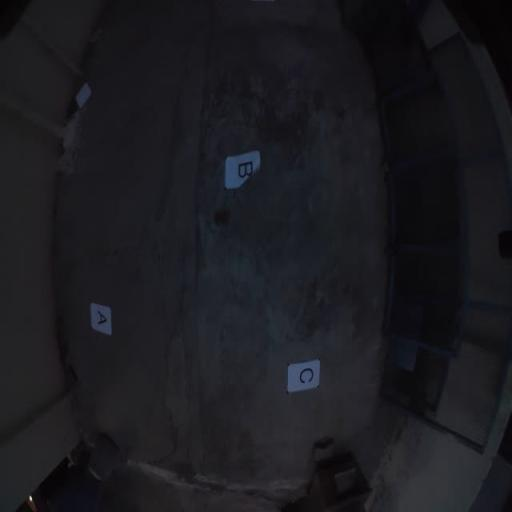A: (89, 303, 112, 335)
B: (225, 149, 260, 190)
C: (286, 360, 321, 394)
